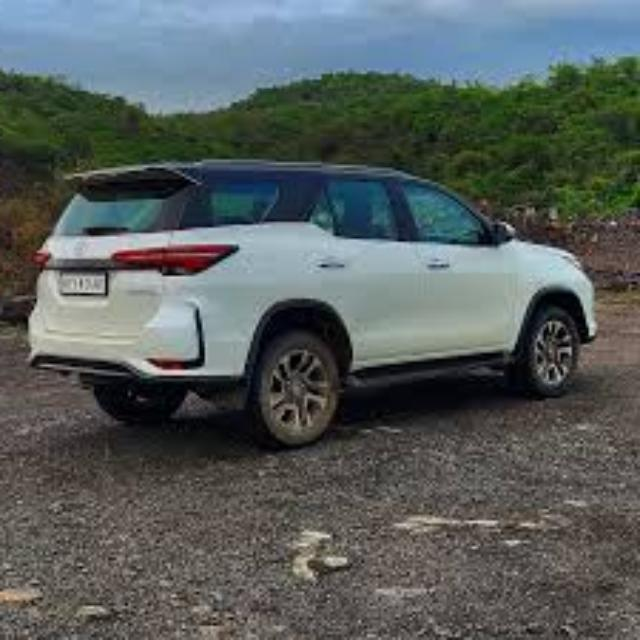number-plate: (60, 271, 111, 294)
vehicles: (26, 151, 615, 453)
